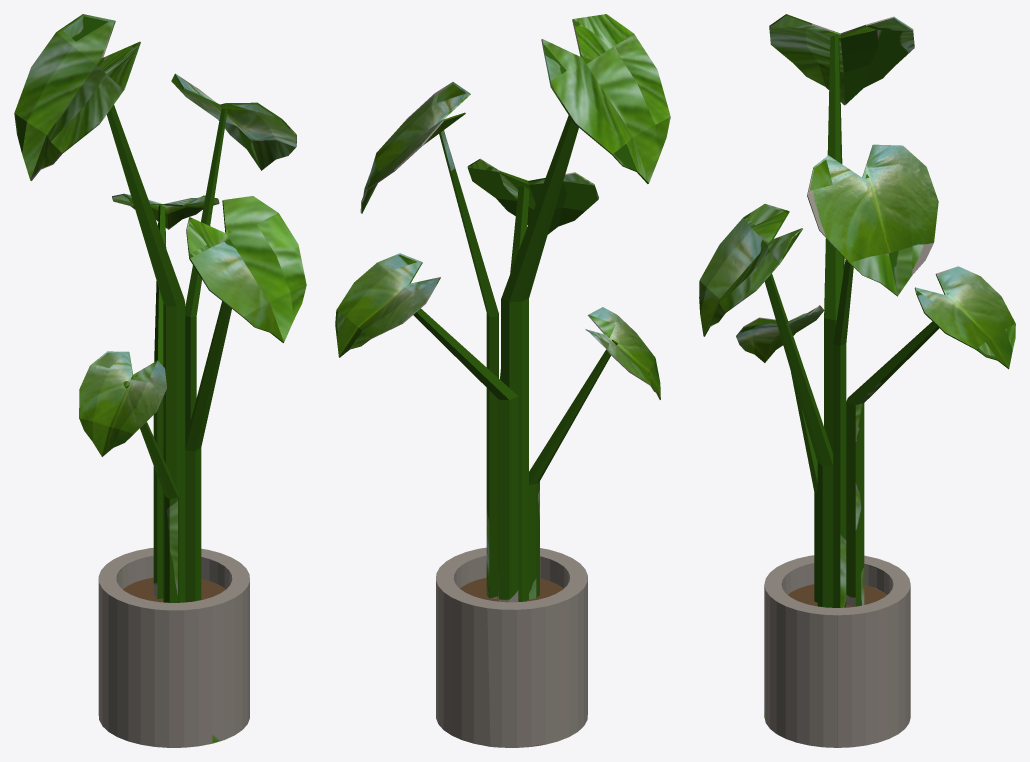
Rendered from monstera.glb.
The picture shows the model from 3 angles, left to right: view 1: azimuth 30°, elevation 25°; view 2: azimuth 150°, elevation 25°; view 3: azimuth 270°, elevation 25°; orthographic projection. The views are drawn at different scales.
Parts seen in each view (by area): view 1: lisc 2; view 2: lisc 2; view 3: lisc 2.
Boxes of the visible parts, x1=… form: lisc 2: x1=14, y1=14, x2=306, y2=747; lisc 2: x1=335, y1=14, x2=670, y2=747; lisc 2: x1=699, y1=14, x2=1015, y2=747.
Bounding box in the file's own units: 1.5 × 3.7 × 1.58.
Materials: 1 (1 with a texture image).
